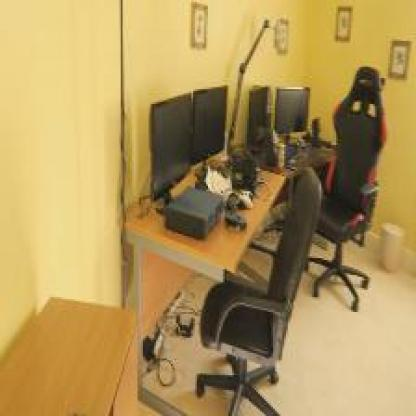other: (44, 6, 186, 82), (129, 221, 230, 297)
